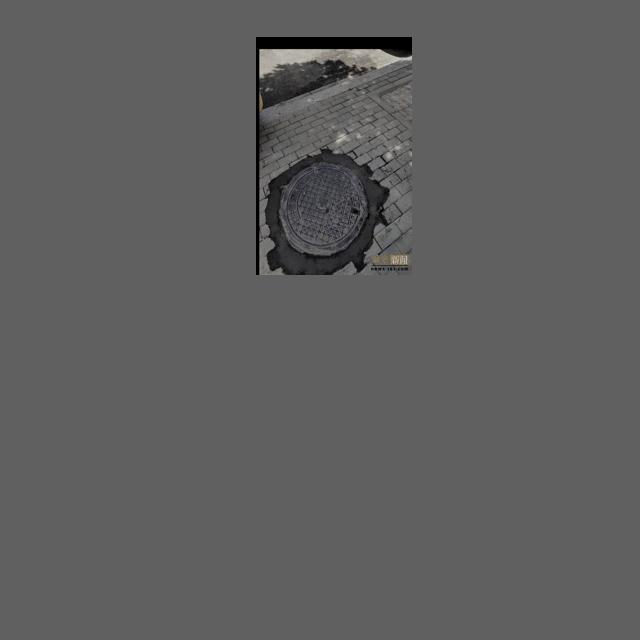good: (260, 145, 391, 271)
